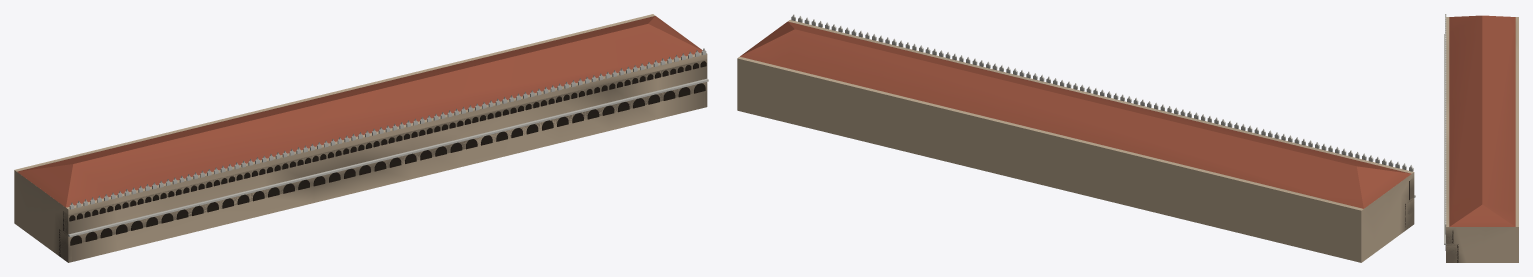
File: procuratie-old.glb
The picture shows the model from 3 angles, left to right: view 1: azimuth 30°, elevation 25°; view 2: azimuth 150°, elevation 25°; view 3: azimuth 270°, elevation 25°; orthographic projection. The views are drawn at different scales.
Visible parts, largest first — view 1: p0_walls, p1_roof; view 2: p0_walls, p1_roof; view 3: p1_roof, p0_walls.
Part boxes in pixels (x1,y1,x2,y2): p0_walls: [14, 14, 708, 262]; p1_roof: [17, 16, 706, 209]; p0_walls: [737, 19, 1415, 262]; p1_roof: [740, 14, 1413, 208]; p1_roof: [1445, 14, 1515, 226]; p0_walls: [1444, 17, 1518, 262].
Size of the model in its own units: 150 by 16 by 22.6.
